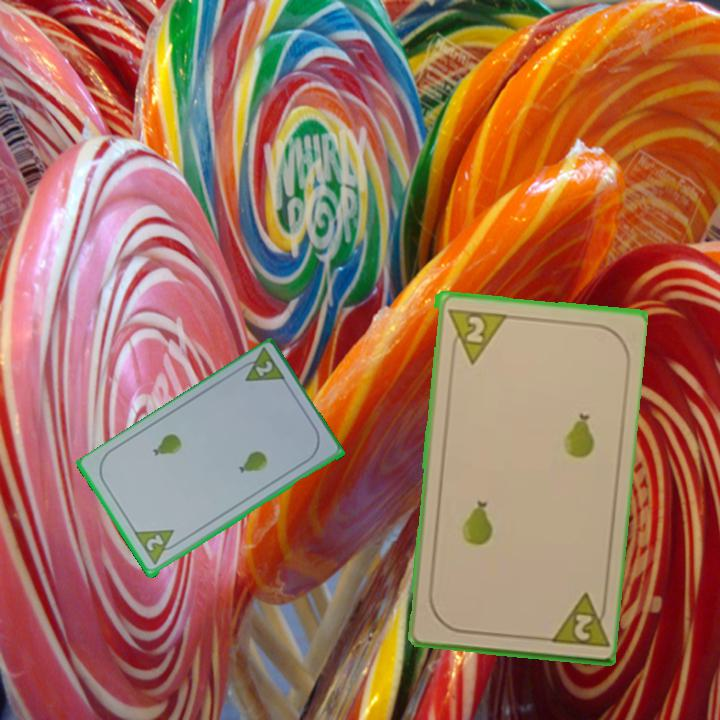2p: (443, 304, 507, 366), (131, 526, 184, 568), (570, 610, 594, 644), (252, 357, 276, 380)
